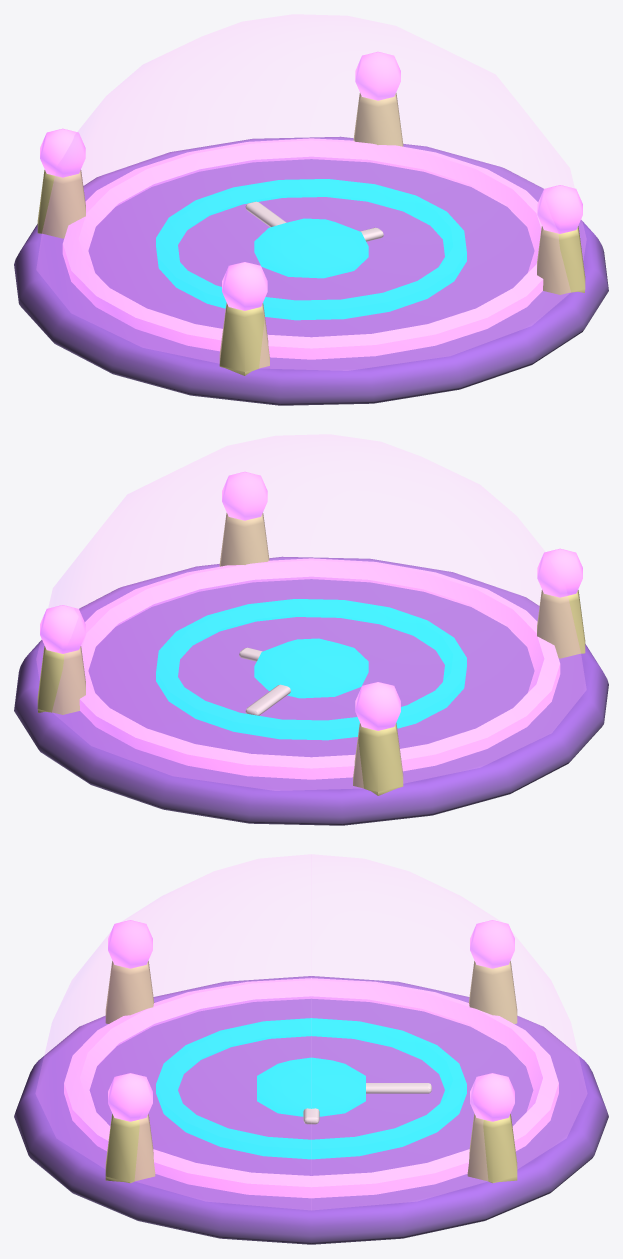
Rendered from slowField.glb.
3 views of the same model, one above another, from view 1: azimuth 30°, elevation 25°; view 2: azimuth 150°, elevation 25°; view 3: azimuth 270°, elevation 25° (orthographic).
Parts seen in each view (by area): view 1: Glow_7B2FF7_T75, Body, Glow_7B2FF7, Glow_00E5FF; view 2: Glow_7B2FF7_T75, Body, Glow_7B2FF7, Glow_00E5FF; view 3: Glow_7B2FF7_T75, Body, Glow_7B2FF7, Glow_00E5FF.
Boxes of the visible parts, x1,y1,x2,y2 form: Glow_7B2FF7_T75: [36, 14, 586, 370]; Body: [14, 93, 608, 405]; Glow_7B2FF7: [40, 51, 582, 359]; Glow_00E5FF: [156, 179, 466, 320]; Glow_7B2FF7_T75: [36, 434, 586, 790]; Body: [14, 513, 608, 825]; Glow_7B2FF7: [40, 471, 582, 779]; Glow_00E5FF: [156, 599, 466, 740]; Glow_7B2FF7_T75: [36, 854, 586, 1210]; Body: [14, 961, 608, 1244]; Glow_7B2FF7: [64, 920, 558, 1198]; Glow_00E5FF: [156, 1018, 466, 1159].
Bounding box in the file's own units: 5.93 × 2.6 × 5.93.
